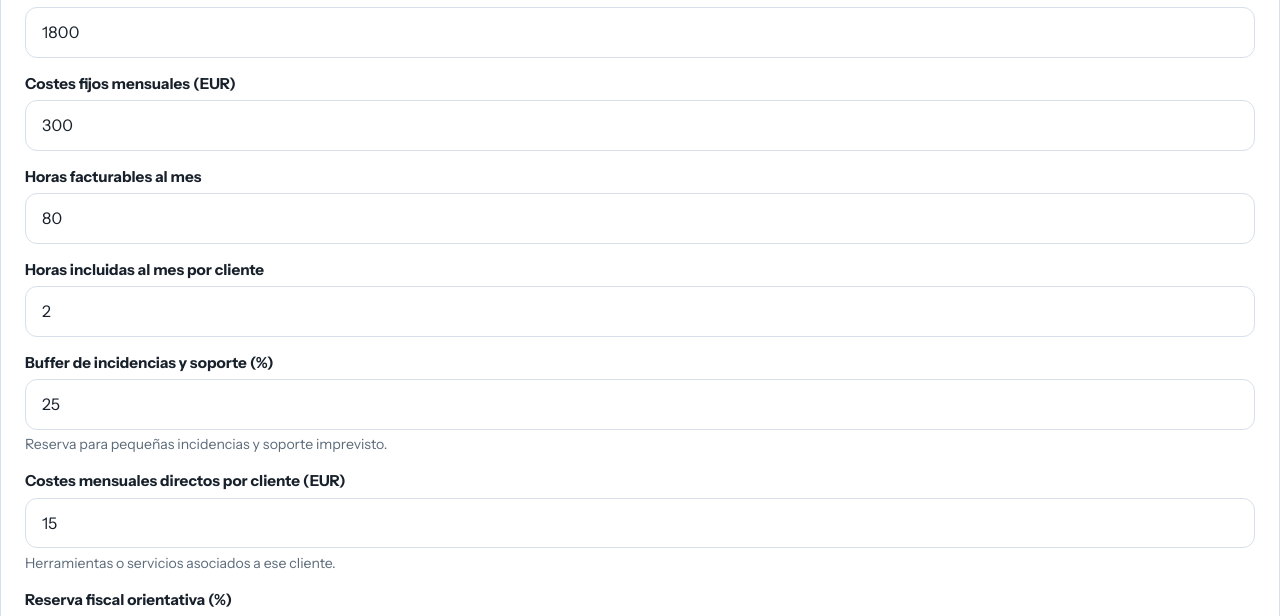
Test: CalculatorForm › preserves an invalid cost and focuses it after submission
Replace the text in the number field labelled "Costes fijos mensuales (EUR)" with "-100": (640, 125) [25, 100, 1255, 151]
(page scrolled)
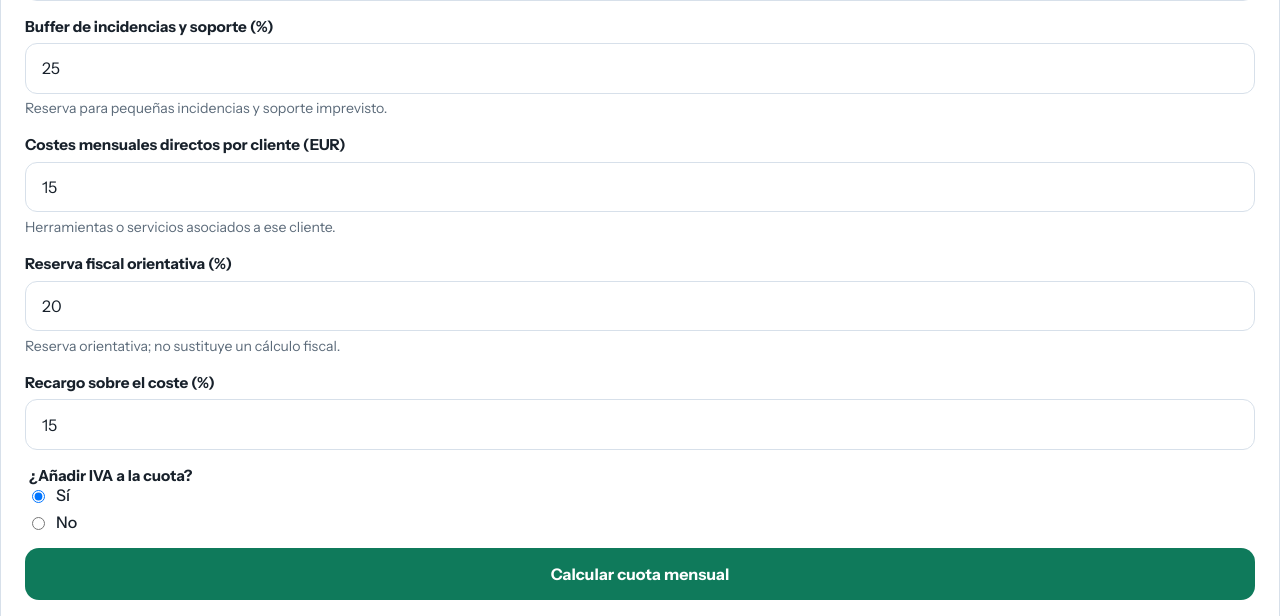
Click the button "Calcular cuota mensual": (640, 574) [25, 548, 1255, 600]
(page scrolled)
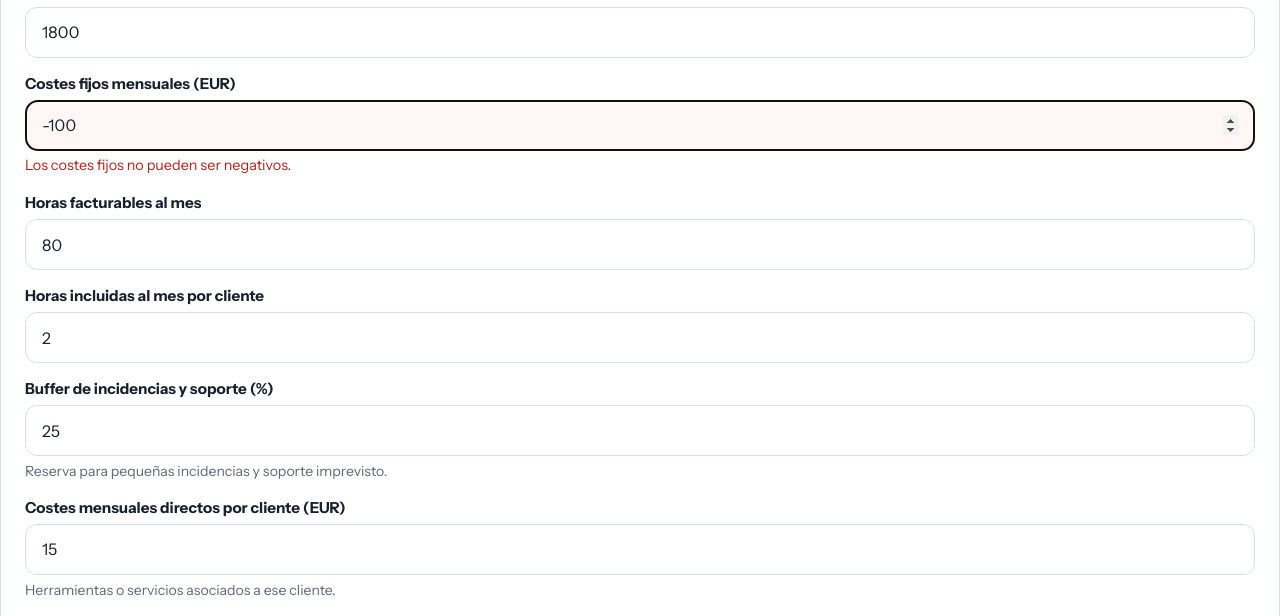
Result: the text "Los costes fijos no pueden ser negativos." is shown at [25, 156, 291, 174]
